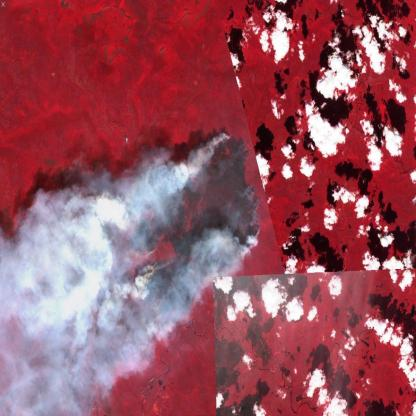fire: (118, 120, 266, 316)
